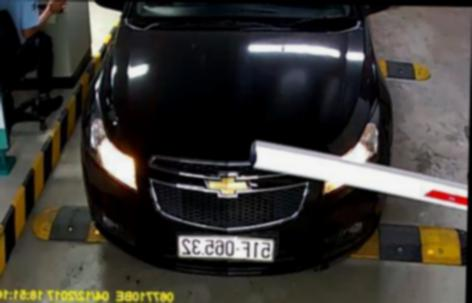License_Plate: (177, 231, 277, 260)
